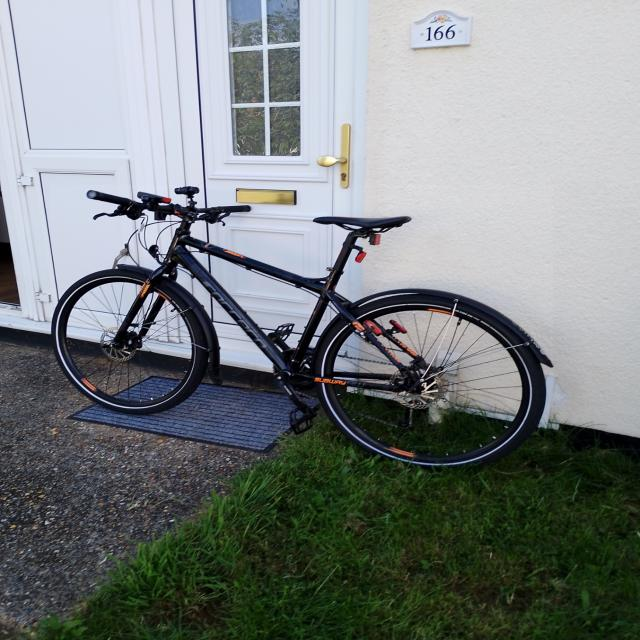bicycle: (50, 185, 553, 467)
